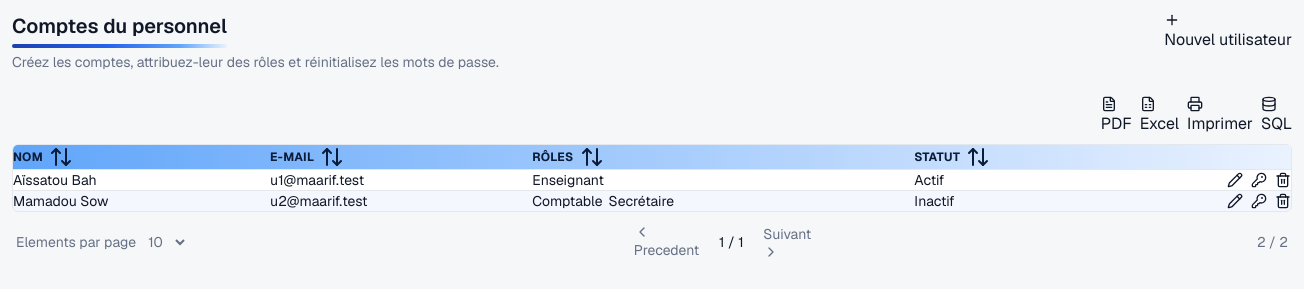
Scenario: UsersPage › deleting an account › deletes it after confirmation
The width and height of the screenshot is (1304, 289).
expect the text "Mamadou Sow" is shown: met, box [13,190,270,211]
Click the button named "Supprimer le compte de Mamadou Sow": (1283, 201) [1275,193,1291,209]
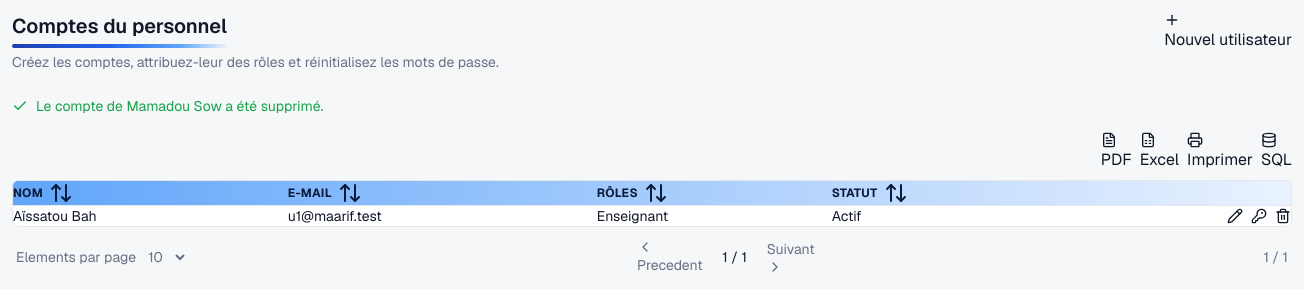
expect the message reads "Le compte de Mamadou Sow a été supprimé.": met, box [36,97,323,115]
